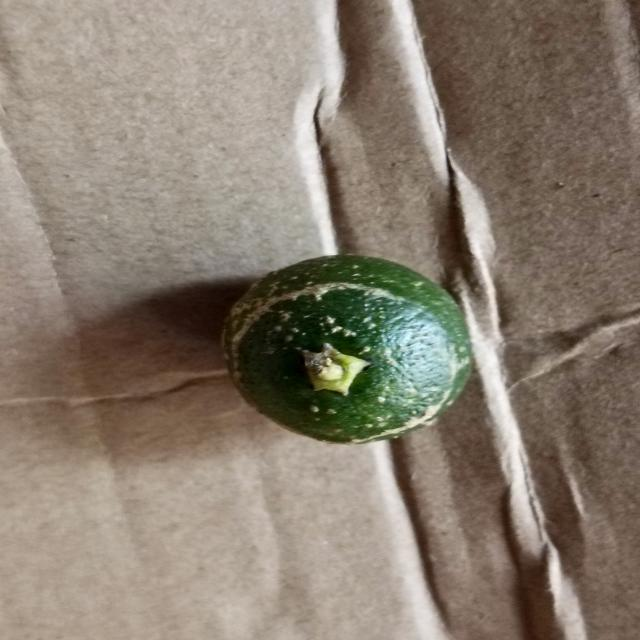scab: (221, 250, 485, 442)
